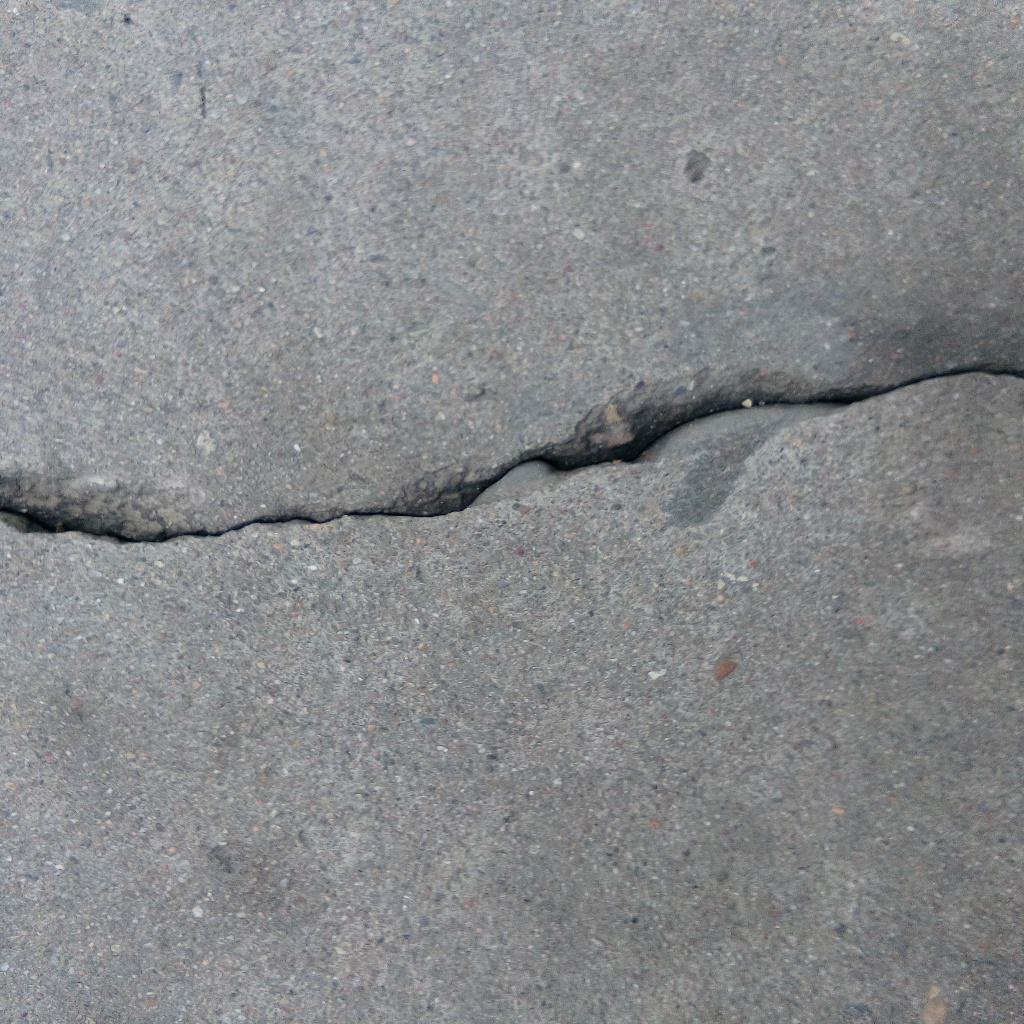Crack: (1, 360, 1024, 548)
